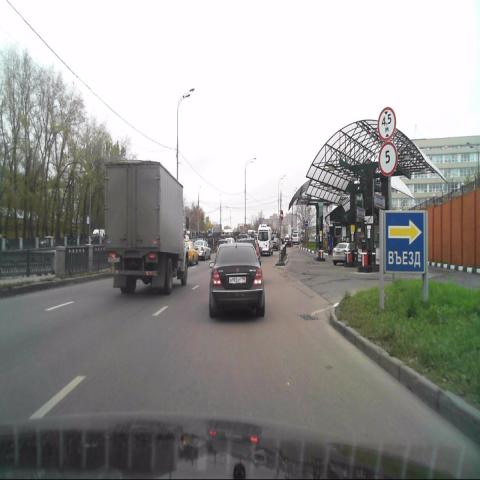3_13: (377, 106, 396, 142)
